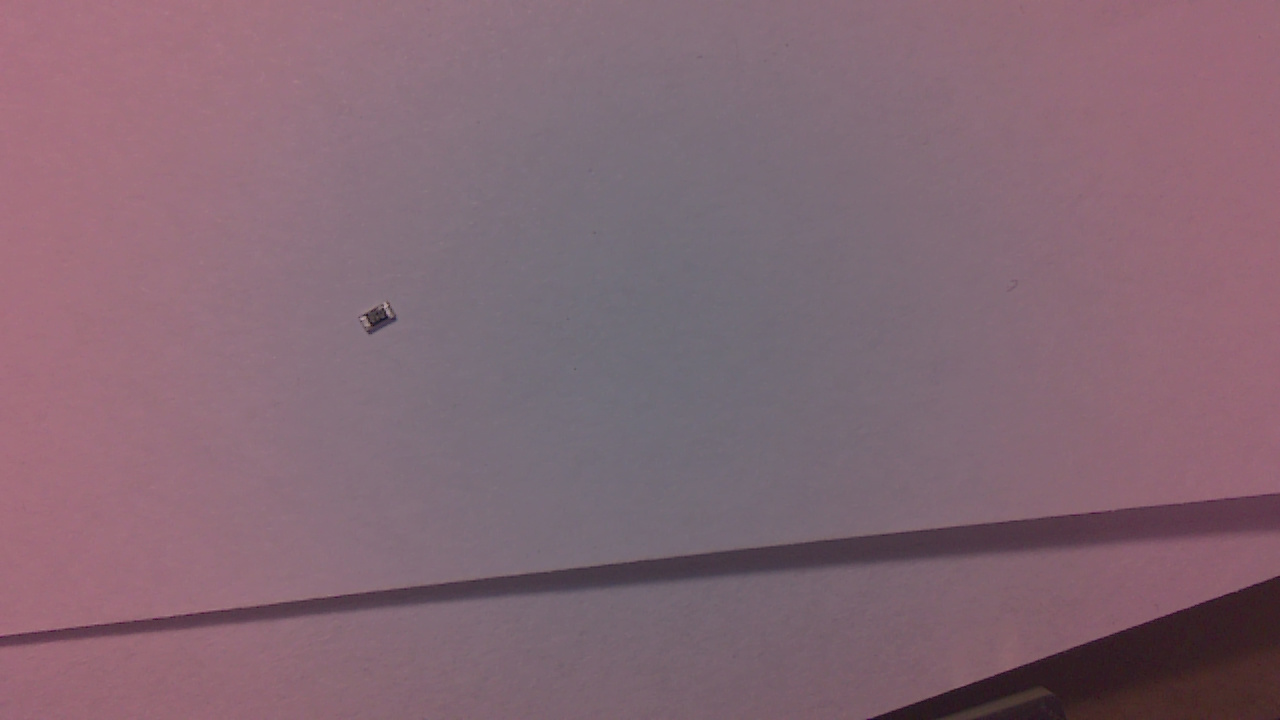Resistor: (364, 307, 404, 339)
